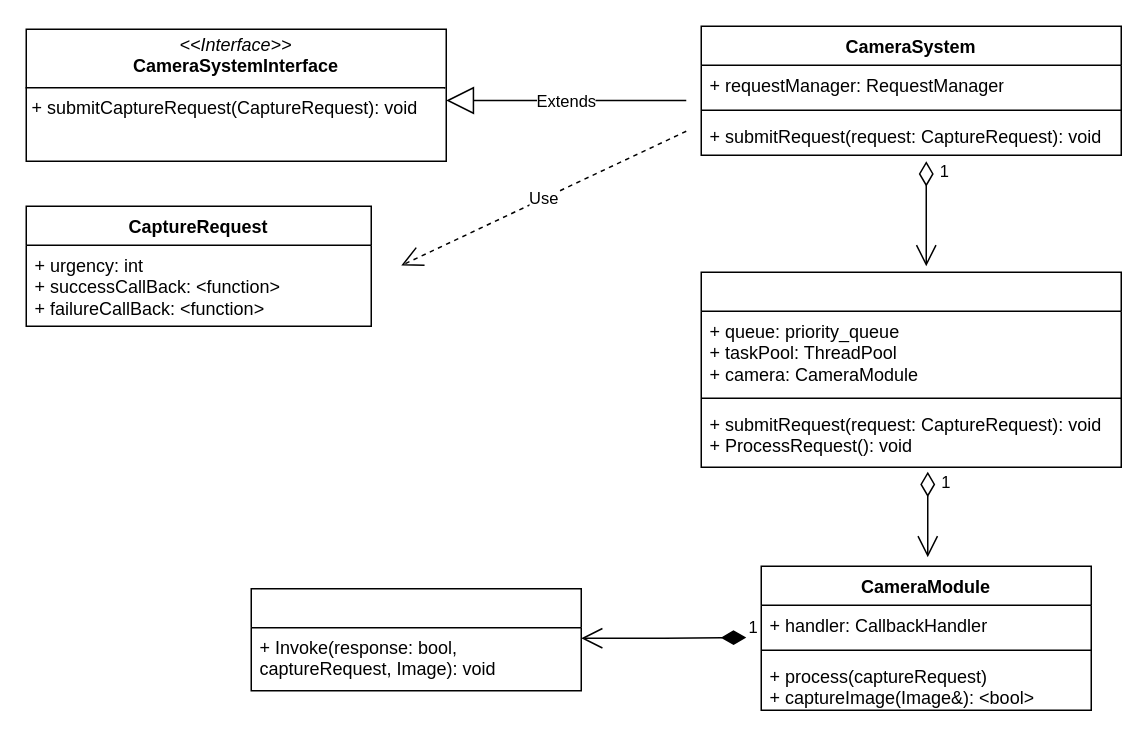
Some shapes in this 1148 by 741 pixel diagram are drawn without their labels. The box of each missing label's shape, as (x1, y1, x2, y2) in pixels:
CallbackHandler: (250, 587, 581, 691)
RequestMana ger: (700, 271, 1121, 467)
